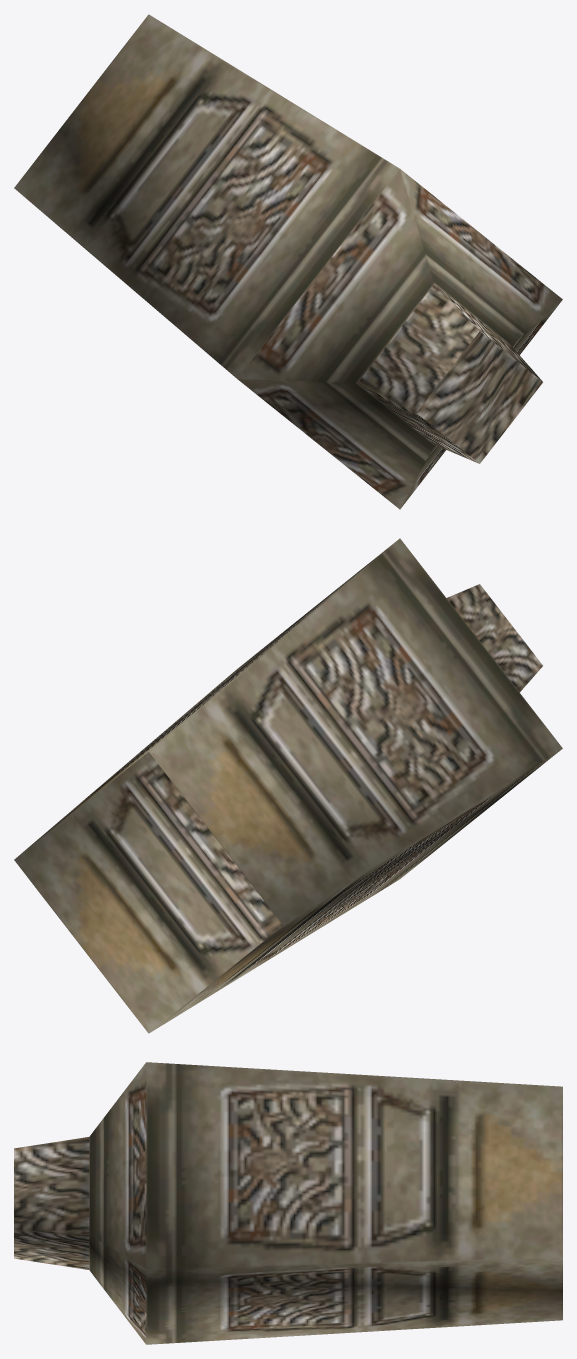
The model's file is INST_FLASKB.obj.
3 views of the same model, one above another, from view 1: azimuth 30°, elevation 25°; view 2: azimuth 150°, elevation 25°; view 3: azimuth 270°, elevation 25° (orthographic). The views are drawn at different scales.
Parts seen in each view (by area): view 1: Inst_flaskB; view 2: Inst_flaskB; view 3: Inst_flaskB.
Boxes of the visible parts, x1,y1,x2,y2 form: Inst_flaskB: (14, 14, 562, 509); Inst_flaskB: (14, 538, 562, 1033); Inst_flaskB: (14, 1062, 562, 1344).
Size of the model in its own units: 35.57 by 35.57 by 62.61.
